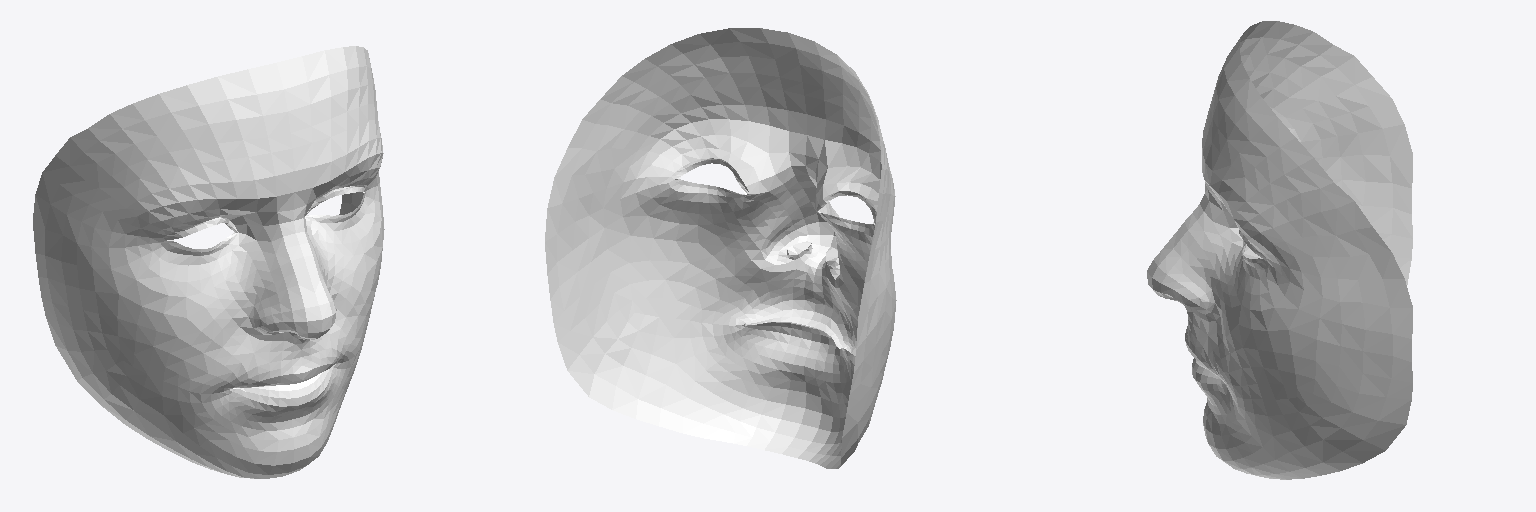
File: eyeLookIn_R.obj
3 views of the same model, side by side, from view 1: azimuth 30°, elevation 25°; view 2: azimuth 150°, elevation 25°; view 3: azimuth 270°, elevation 25° (orthographic).
Parts seen in each view (by area): view 1: default; view 2: default; view 3: default.
Part boxes in pixels (bbox=[...]): default: bbox=[33, 46, 384, 478]; default: bbox=[545, 28, 896, 468]; default: bbox=[1147, 21, 1412, 479].
Size of the model in its own units: 0.1447 by 0.182 by 0.1055.